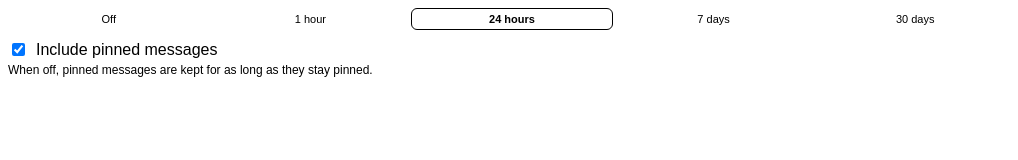
Scenario: staging the switch › drops a staged switch when Off is picked, and the switch goes with the window
Click the checkbox labelled "Include pinned messages".
click(18, 50)  # box [12,43,25,56]
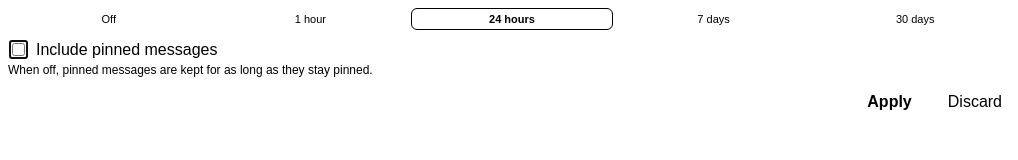
Click the button "Off".
click(109, 19)  # box [8,8,210,30]
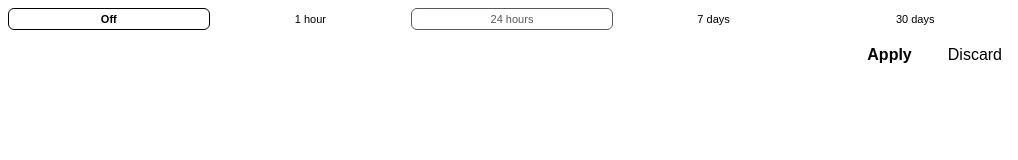
Check: the text "Include pinned messages" is gone
